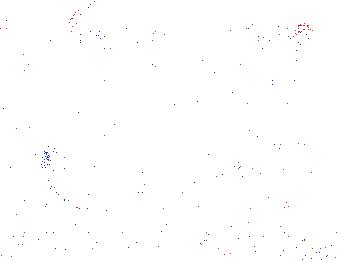moon jellyfish: (64, 1, 167, 78), (252, 25, 316, 119), (43, 147, 134, 212), (215, 20, 291, 78), (175, 17, 241, 75)
